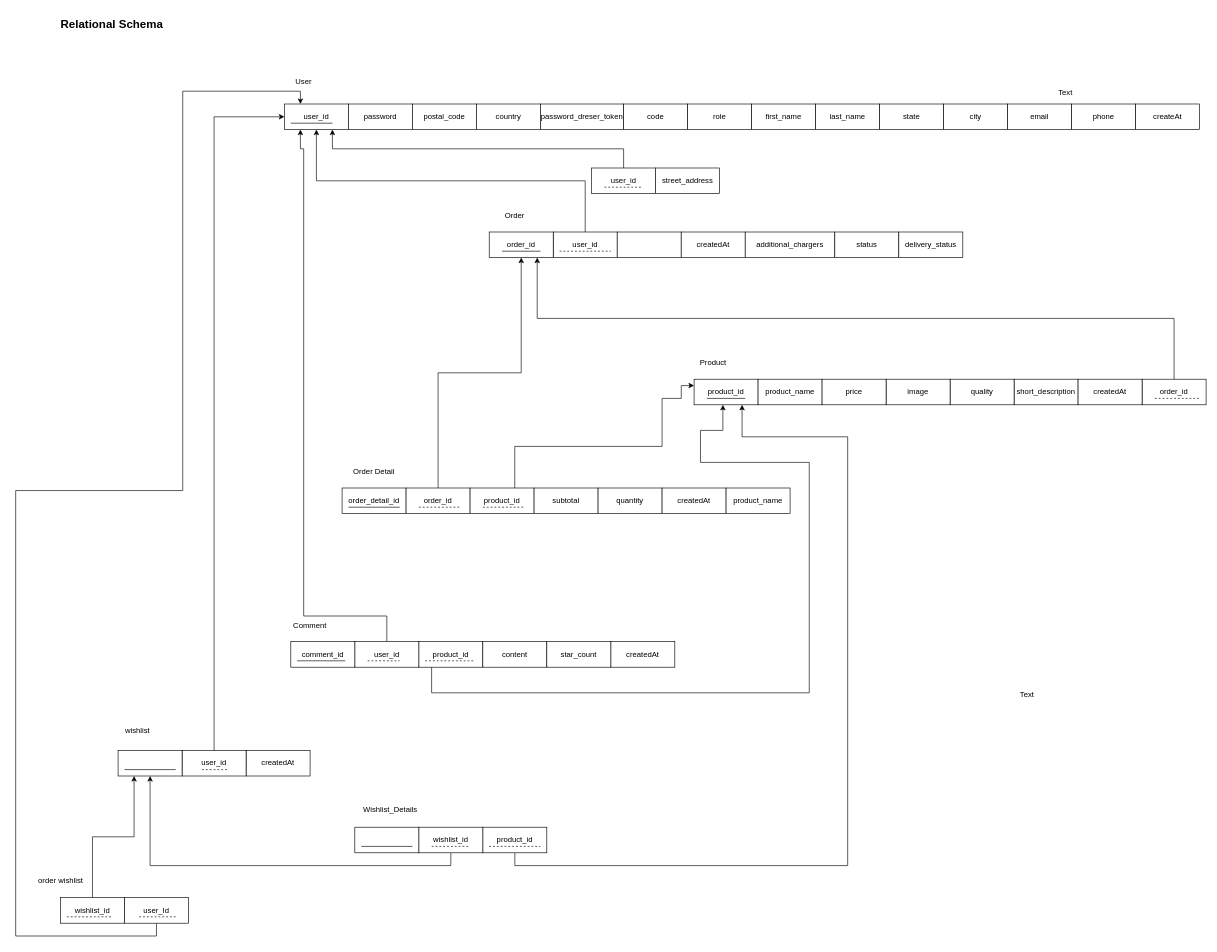
Image size: 1217x952. Some labels were removed from this diagram. Each missing label, with the centre of its shape:
order_amount: (x=649, y=244)
wish_list_id: (x=149, y=763)
wishlist_detail_id: (x=386, y=840)
